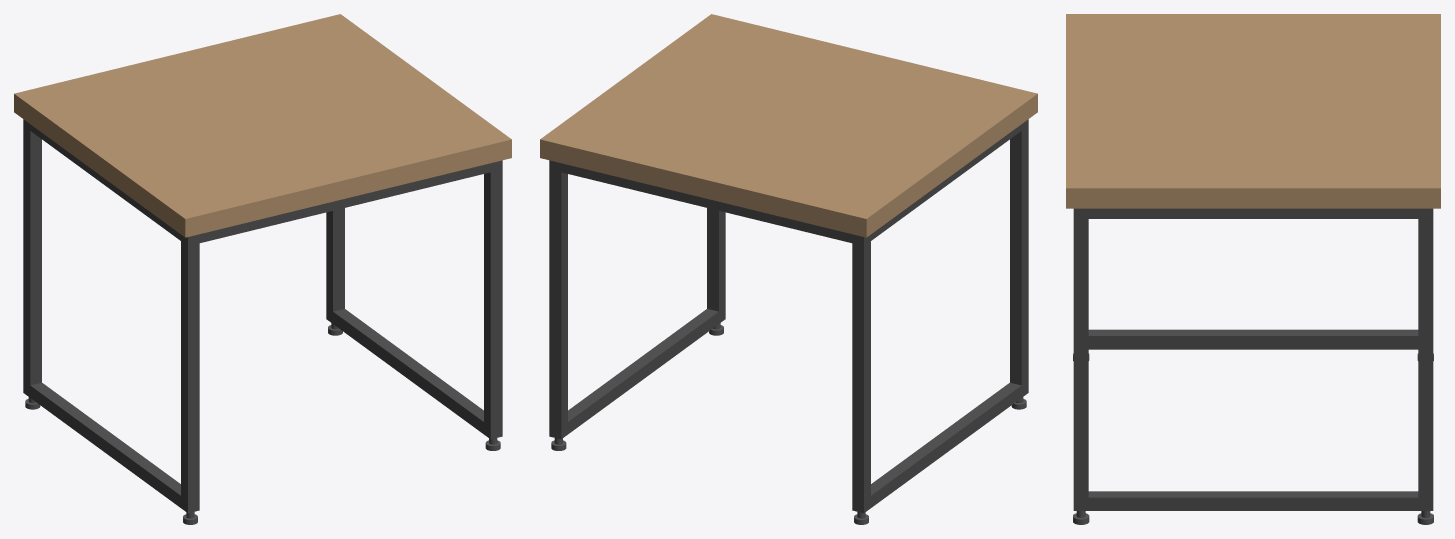
File: 478_サイドテーブル.glb
The picture shows the model from 3 angles, left to right: view 1: azimuth 30°, elevation 25°; view 2: azimuth 150°, elevation 25°; view 3: azimuth 270°, elevation 25°; orthographic projection. The views are drawn at different scales.
Visible parts, largest first — view 1: Body; view 2: Body; view 3: Body.
Part boxes in pixels (x1,y1,x2,y2): Body: (14, 14, 511, 524); Body: (540, 14, 1037, 524); Body: (1066, 14, 1440, 524).
Bounding box in the file's own units: 0.55 × 0.5 × 0.5.
